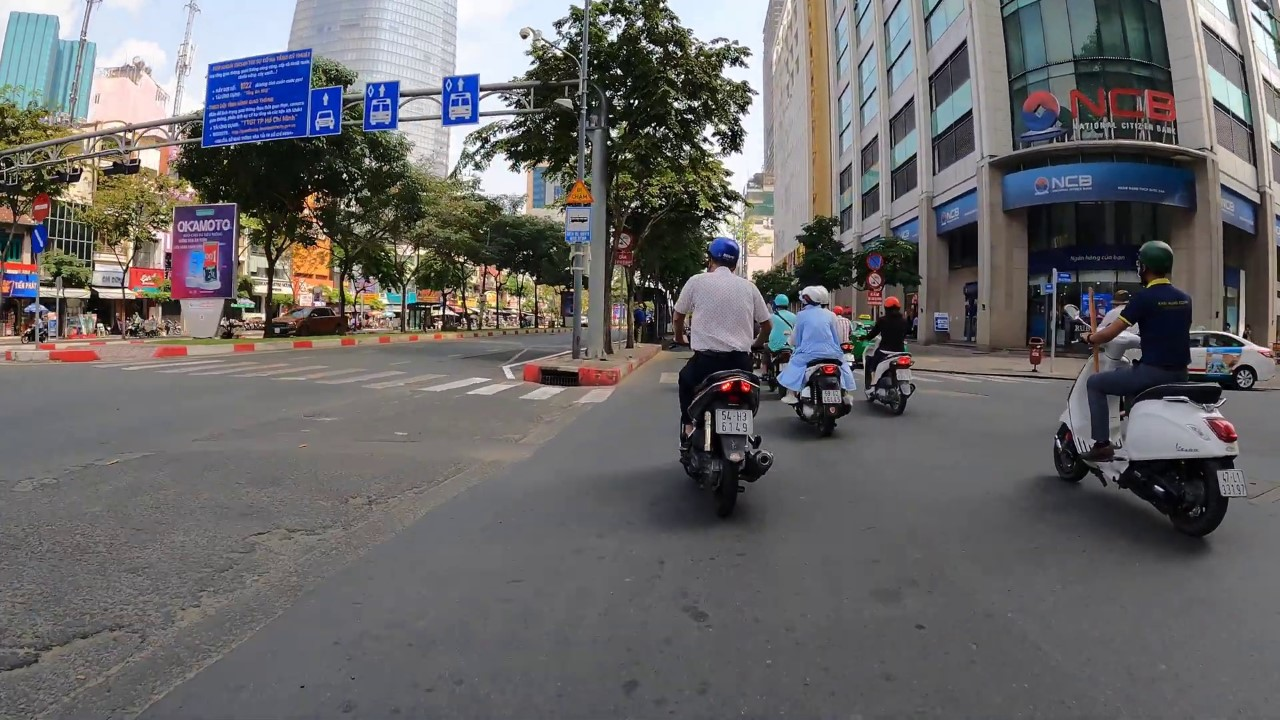cam_do_xe: (865, 253, 885, 271)
cam_nguoc_chieu: (31, 192, 50, 221)
di_cham: (564, 178, 594, 204)
huong_phai_di_vong: (30, 224, 47, 253)
